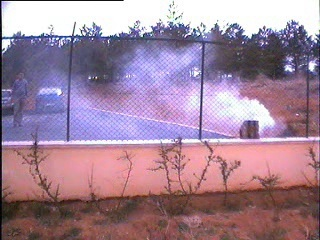smoke: (125, 43, 276, 136)
